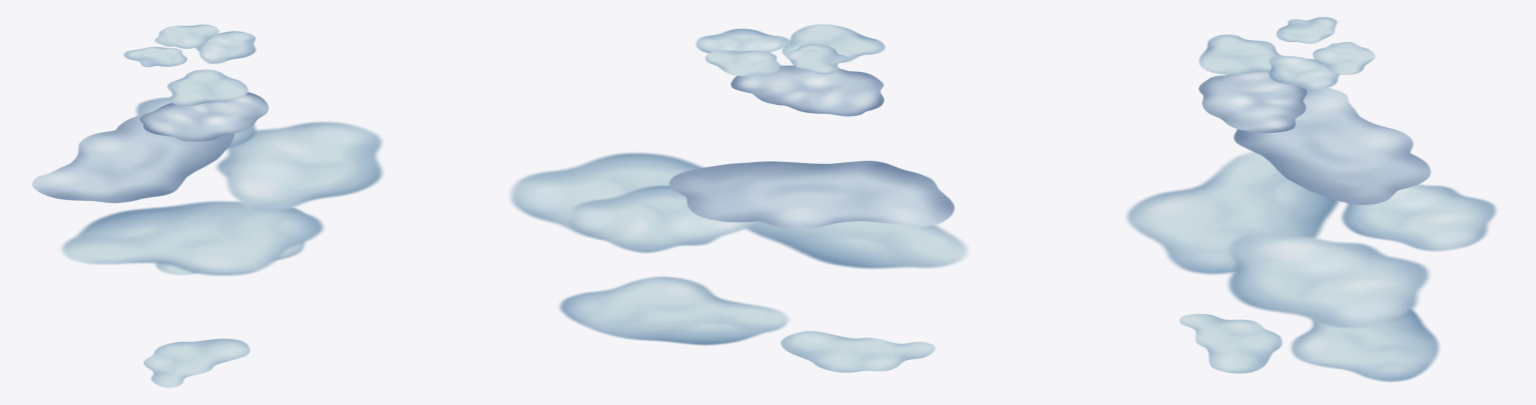
File: intro.glb
The picture shows the model from 3 angles, left to right: view 1: azimuth 30°, elevation 25°; view 2: azimuth 150°, elevation 25°; view 3: azimuth 270°, elevation 25°; orthographic projection. The views are drawn at different scales.
Visible parts, largest first — view 1: Scena_nuvola_10, Scena_nuvola_11, Scena_nuvola_8, Scena_nuvola_9, Scena_nuvola_4, Scena_nuvola_1, Scena_nuvola_3, Scena_nuvola_6, Scena_nuvola_2, Scena_nuvola_7, Scena_nuvola_5; view 2: Scena_nuvola_8, Scena_nuvola_5, Scena_nuvola_10, Scena_nuvola_7, Scena_nuvola_11, Scena_nuvola_9, Scena_nuvola_4, Scena_nuvola_1, Scena_nuvola_3, Scena_nuvola_6, Scena_nuvola_2; view 3: Scena_nuvola_11, Scena_nuvola_10, Scena_nuvola_8, Scena_nuvola_7, Scena_nuvola_5, Scena_nuvola_9, Scena_nuvola_4, Scena_nuvola_1, Scena_nuvola_3, Scena_nuvola_6, Scena_nuvola_2.
Part boxes in pixels (x1,y1,x2,y2): Scena_nuvola_10: (60, 200, 324, 276); Scena_nuvola_11: (215, 121, 383, 212); Scena_nuvola_8: (31, 114, 234, 203); Scena_nuvola_9: (139, 92, 268, 141); Scena_nuvola_4: (143, 338, 250, 387); Scena_nuvola_1: (167, 69, 248, 105); Scena_nuvola_3: (195, 31, 256, 63); Scena_nuvola_6: (154, 24, 219, 48); Scena_nuvola_2: (123, 46, 187, 67); Scena_nuvola_7: (135, 97, 257, 148); Scena_nuvola_5: (154, 207, 305, 275); Scena_nuvola_8: (668, 160, 954, 229); Scena_nuvola_5: (559, 276, 789, 345); Scena_nuvola_10: (745, 221, 969, 268); Scena_nuvola_7: (567, 185, 759, 253); Scena_nuvola_11: (509, 152, 704, 239); Scena_nuvola_9: (730, 65, 884, 116); Scena_nuvola_4: (780, 331, 935, 372); Scena_nuvola_1: (781, 24, 885, 62); Scena_nuvola_3: (695, 28, 790, 53); Scena_nuvola_6: (705, 50, 780, 76); Scena_nuvola_2: (785, 43, 847, 74); Scena_nuvola_11: (1227, 233, 1429, 328); Scena_nuvola_10: (1125, 151, 1340, 274); Scena_nuvola_8: (1233, 88, 1431, 204); Scena_nuvola_7: (1340, 184, 1496, 251); Scena_nuvola_5: (1290, 309, 1439, 381); Scena_nuvola_9: (1198, 71, 1307, 132); Scena_nuvola_4: (1179, 313, 1282, 373); Scena_nuvola_1: (1199, 34, 1282, 74); Scena_nuvola_3: (1268, 55, 1339, 90); Scena_nuvola_6: (1312, 42, 1375, 74); Scena_nuvola_2: (1276, 17, 1337, 43).
Size of the model in its own units: 47.66 by 30.96 by 43.18.
Materials: 8 (8 with a texture image).
